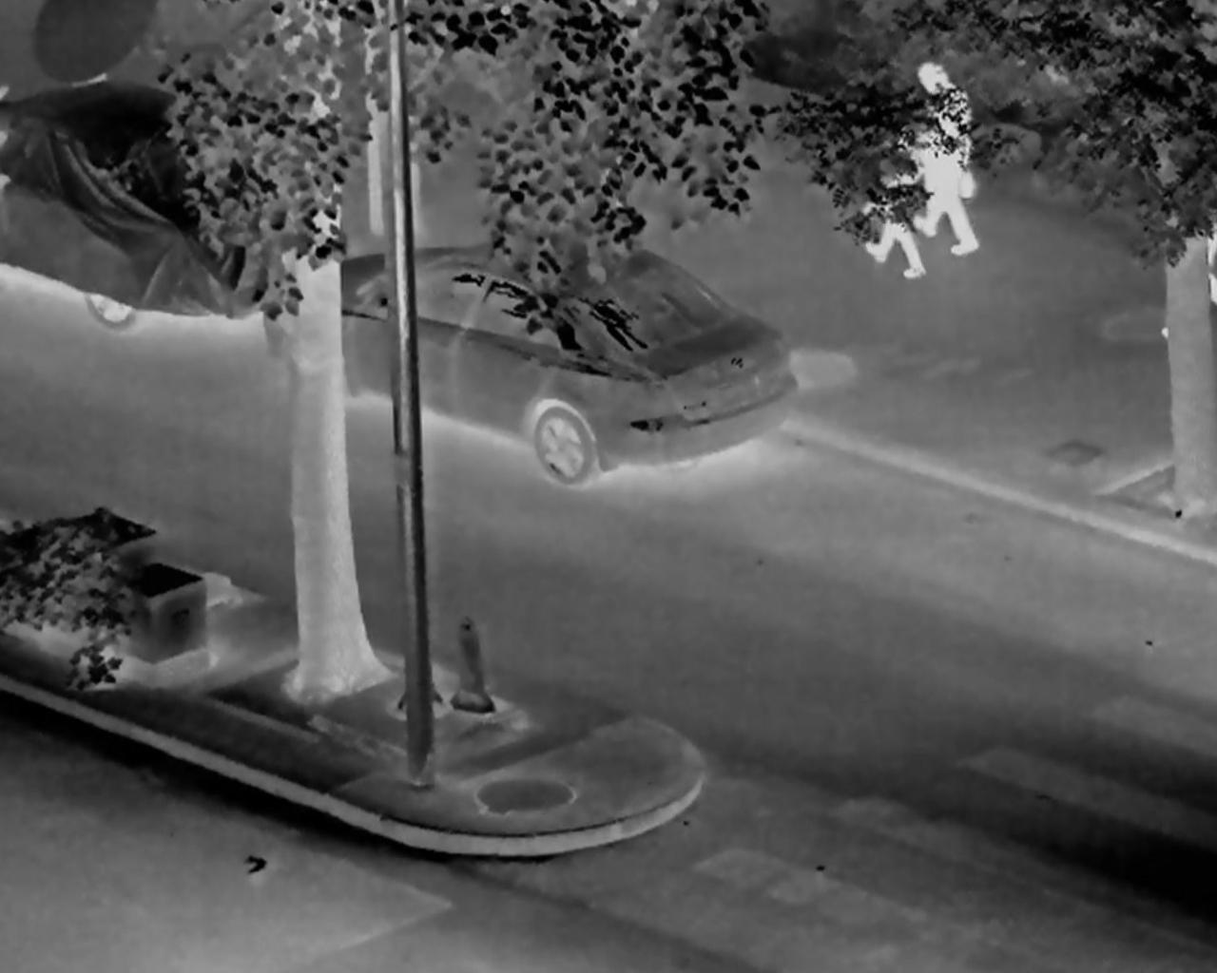person: (913, 65, 979, 260), (860, 119, 926, 282)
